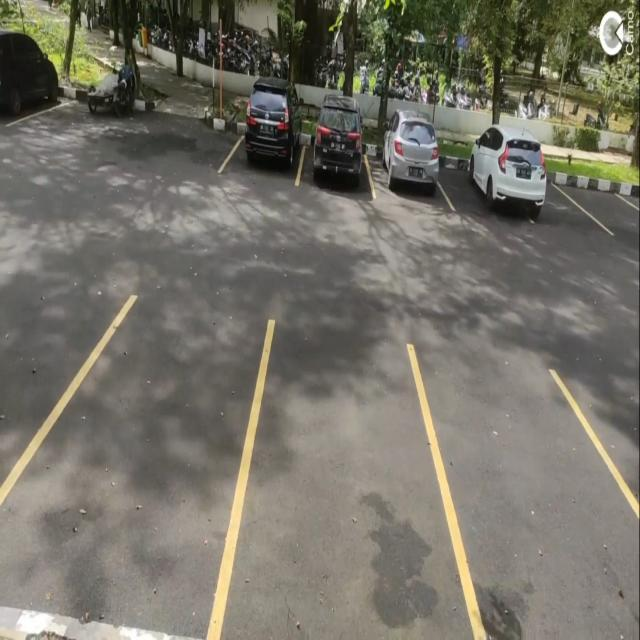empty: (25, 293, 239, 630), (239, 322, 450, 640), (441, 360, 631, 640), (576, 181, 640, 238)
occupied: (445, 124, 547, 225), (224, 76, 302, 186), (298, 94, 376, 198), (369, 109, 447, 205)
